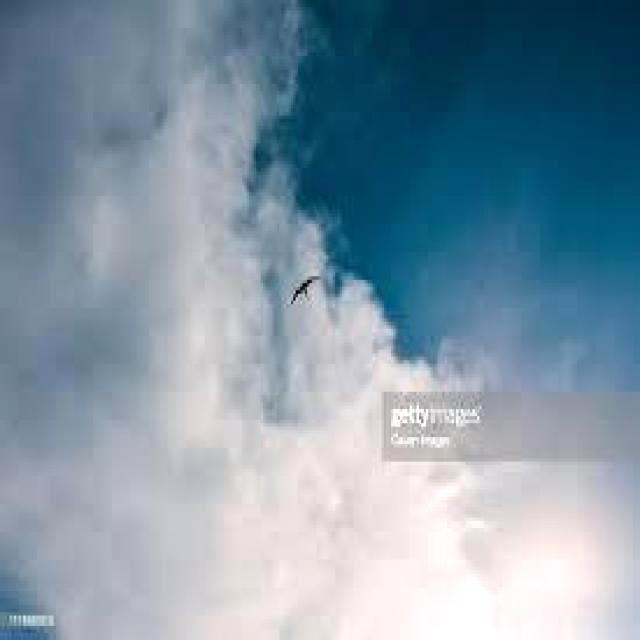bird: (286, 271, 322, 307)
